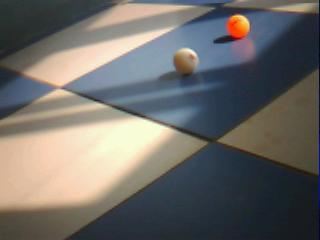oball: (227, 14, 250, 38)
